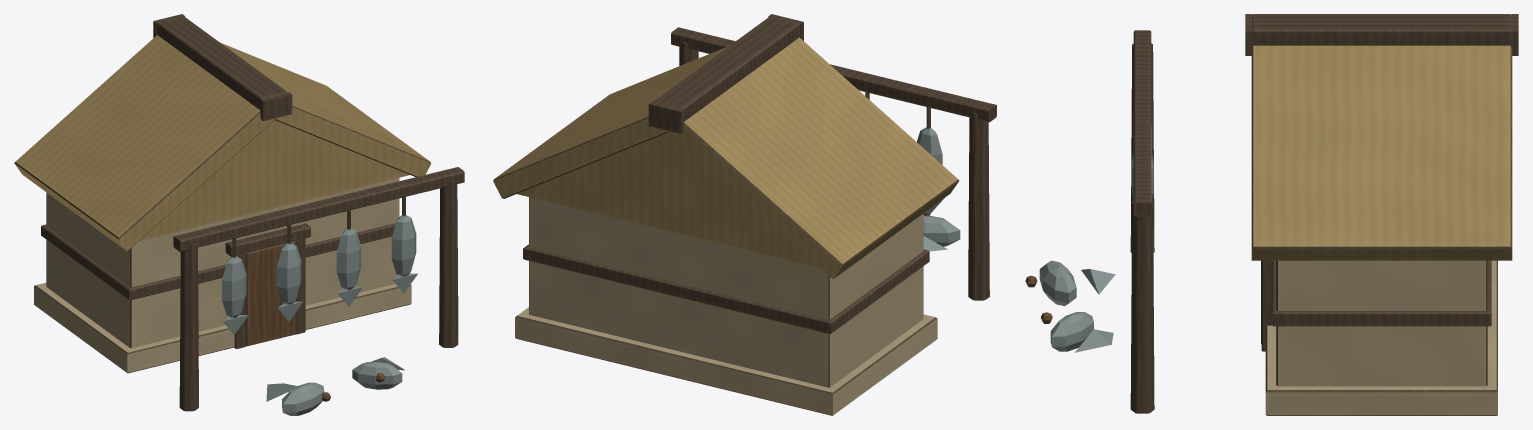
File: drying-rack-long-hut.glb
3 renders of one model, left to right at view 1: azimuth 30°, elevation 25°; view 2: azimuth 150°, elevation 25°; view 3: azimuth 270°, elevation 25°, orthographic. The views are drawn at different scales.
Visible parts, largest first — view 1: drying-rack-long-hut; view 2: drying-rack-long-hut; view 3: drying-rack-long-hut.
Part boxes in pixels (x1,y1,x2,y2): drying-rack-long-hut: (14, 14, 464, 415); drying-rack-long-hut: (493, 14, 996, 415); drying-rack-long-hut: (1025, 14, 1518, 415).
Size of the model in its own units: 0.6285 by 0.4775 by 0.6915.
1 material, 1 textured.
